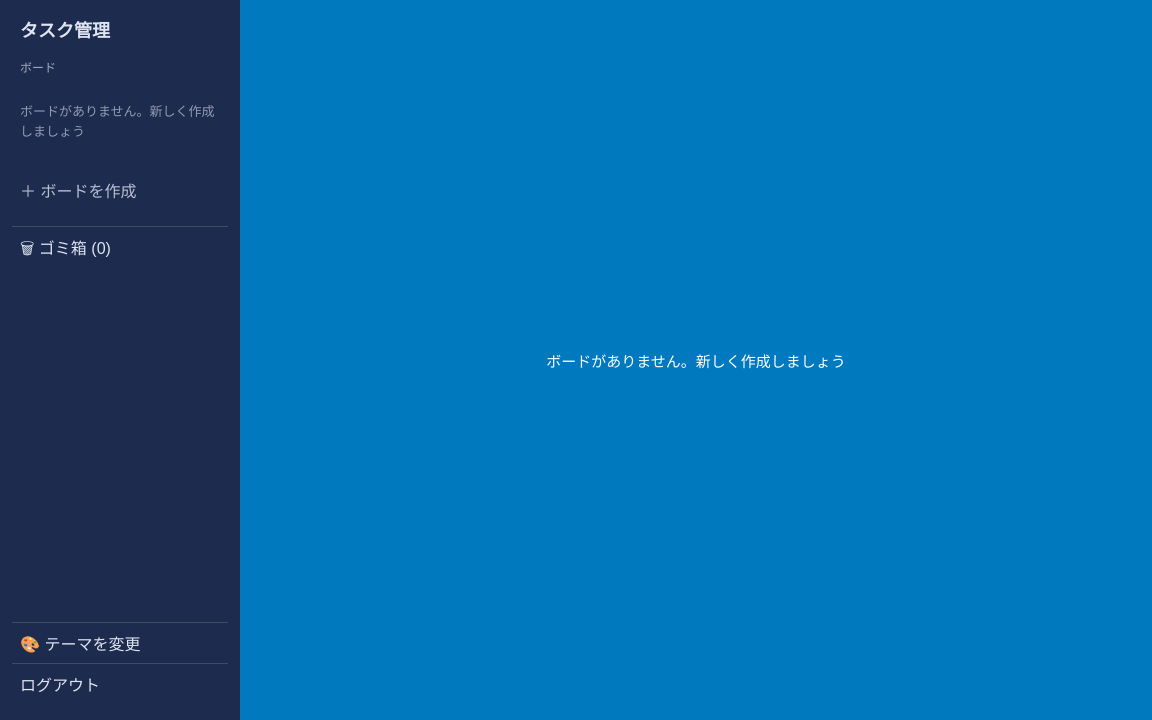
Test: テーマ変更パネル › 保存に失敗したらトーストを出して元のテーマに戻す
Click the button "🎨 テーマを変更" at (120, 642), box [12,622,228,663]
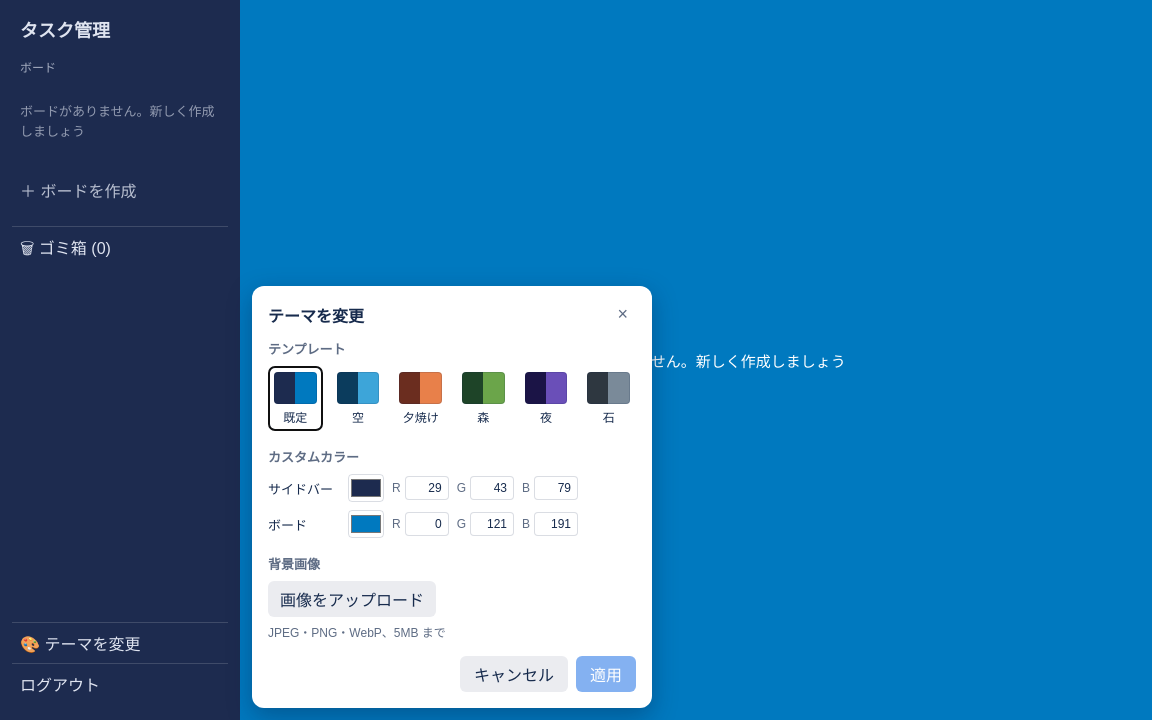
Click the button "夜" at (546, 398), box [519,366,573,431]
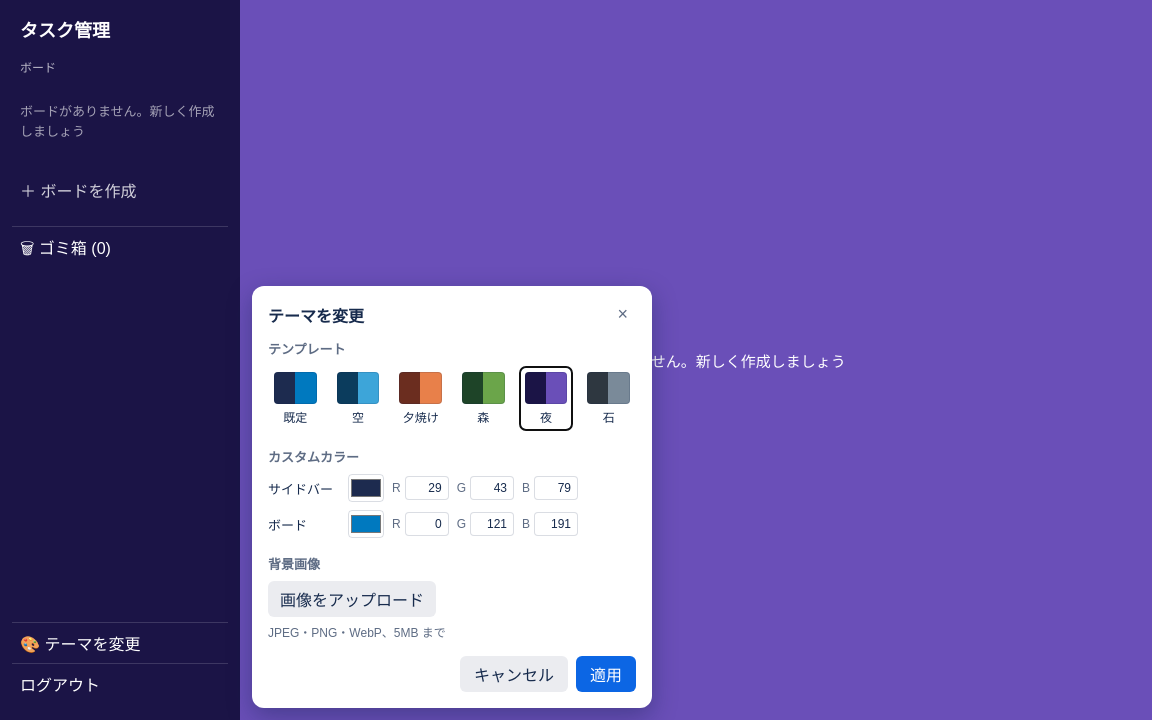
Click the button "適用" at (606, 674), box [576,656,636,692]
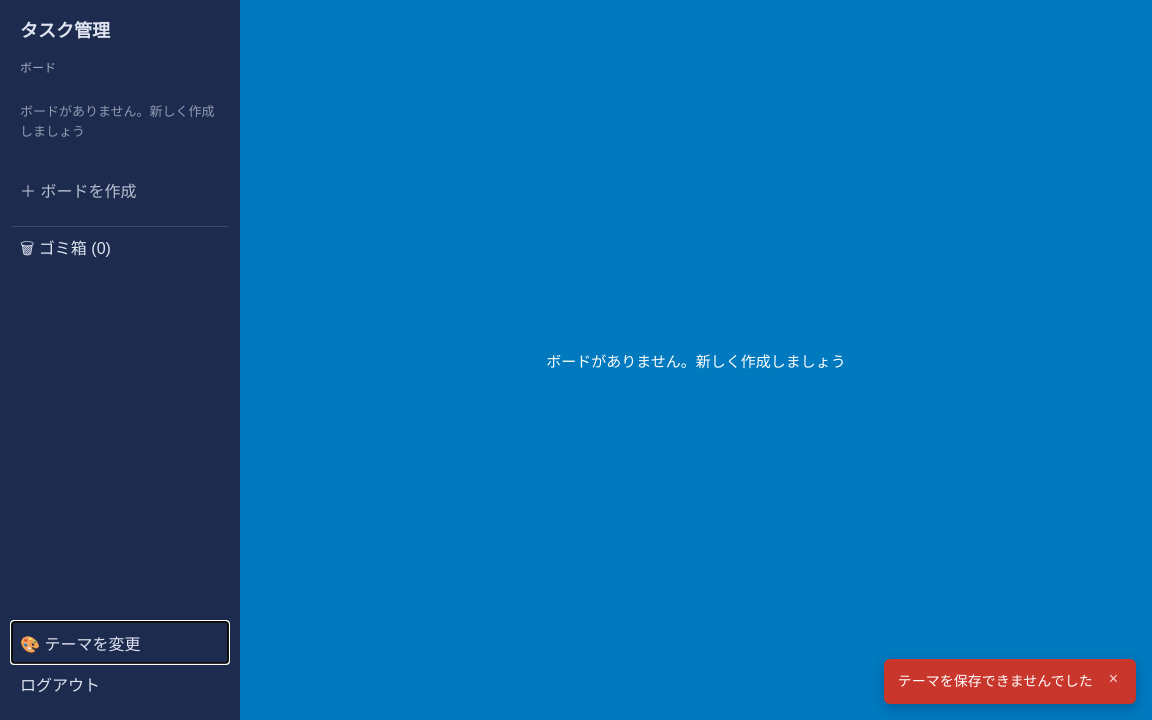
Result: the text "テーマを保存できませんでした" is shown at [898,671,1093,692]
